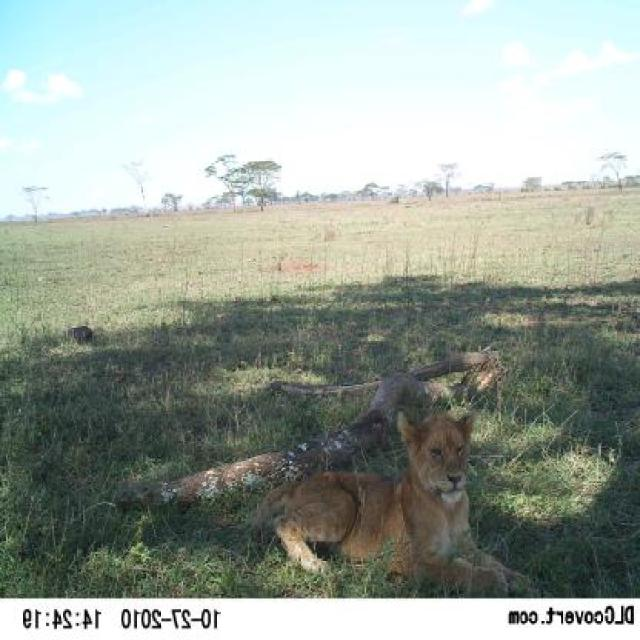Lion: (251, 391, 566, 592)
